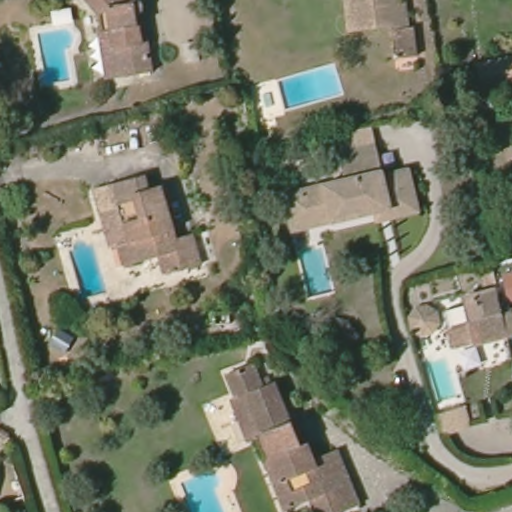pool: (272, 61, 348, 112), (36, 19, 81, 93), (70, 234, 115, 304), (171, 465, 236, 509), (423, 353, 465, 406), (298, 240, 335, 295)
